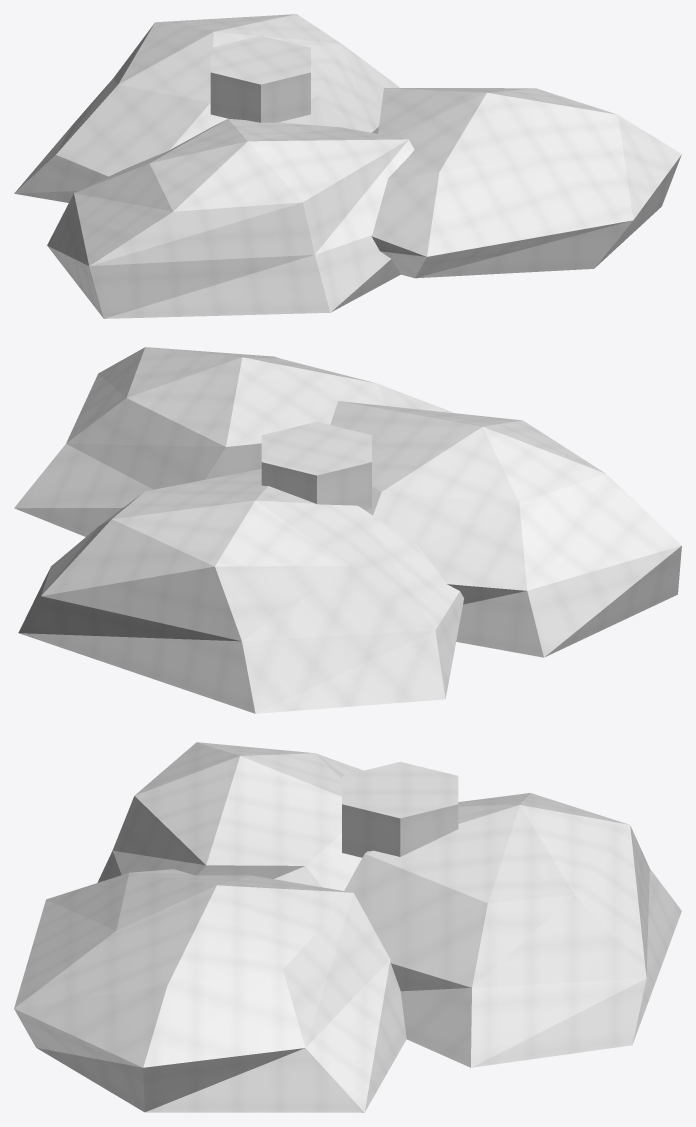
File: food_hops.obj
3 renders of one model, top to bottom at view 1: azimuth 30°, elevation 25°; view 2: azimuth 150°, elevation 25°; view 3: azimuth 270°, elevation 25°, orthographic. The views are drawn at different scales.
Visible parts, largest first — view 1: food_hops; view 2: food_hops; view 3: food_hops.
Boxes of the visible parts, x1,y1,x2,y2 form: food_hops: [14, 14, 681, 318]; food_hops: [14, 347, 681, 713]; food_hops: [14, 742, 681, 1112].
Bounding box in the file's own units: 0.5602 × 0.13 × 0.4977.
